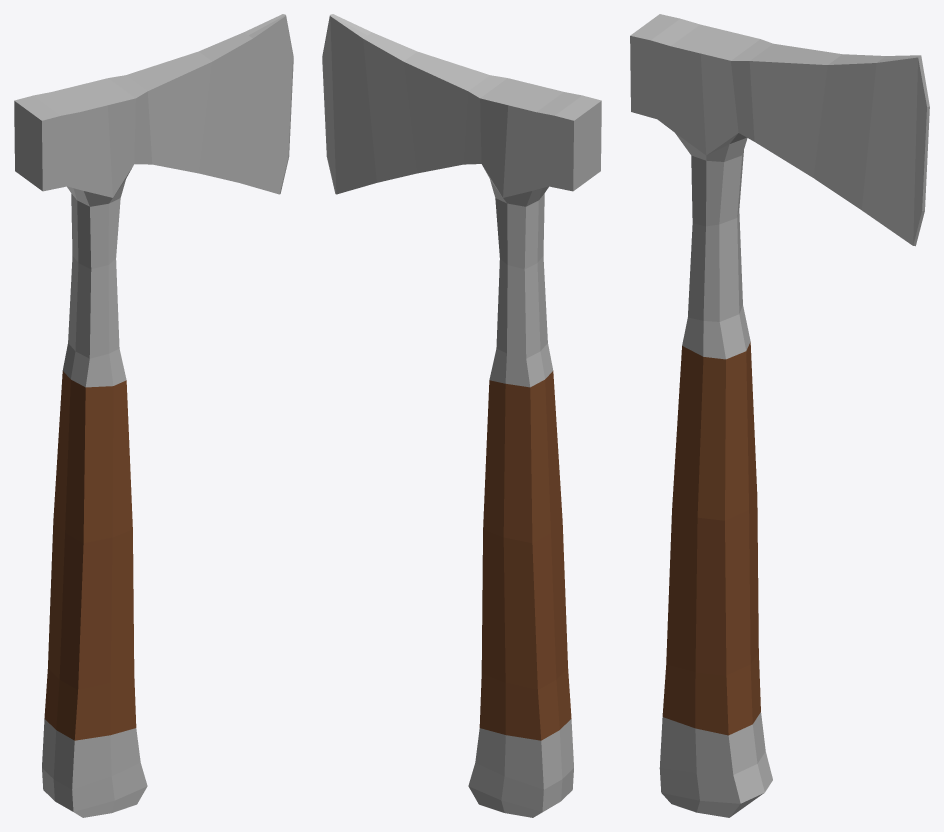
File: Hatchet.fbx
3 views of the same model, side by side, from view 1: azimuth 30°, elevation 25°; view 2: azimuth 150°, elevation 25°; view 3: azimuth 330°, elevation 25° (orthographic). The views are drawn at different scales.
Parts seen in each view (by area): view 1: hatchet; view 2: hatchet; view 3: hatchet.
Part boxes in pixels (x1=…): hatchet: x1=14, y1=14, x2=293, y2=817; hatchet: x1=322, y1=14, x2=601, y2=817; hatchet: x1=630, y1=14, x2=929, y2=817.
Size of the model in its own units: 193 by 515 by 44.26.
